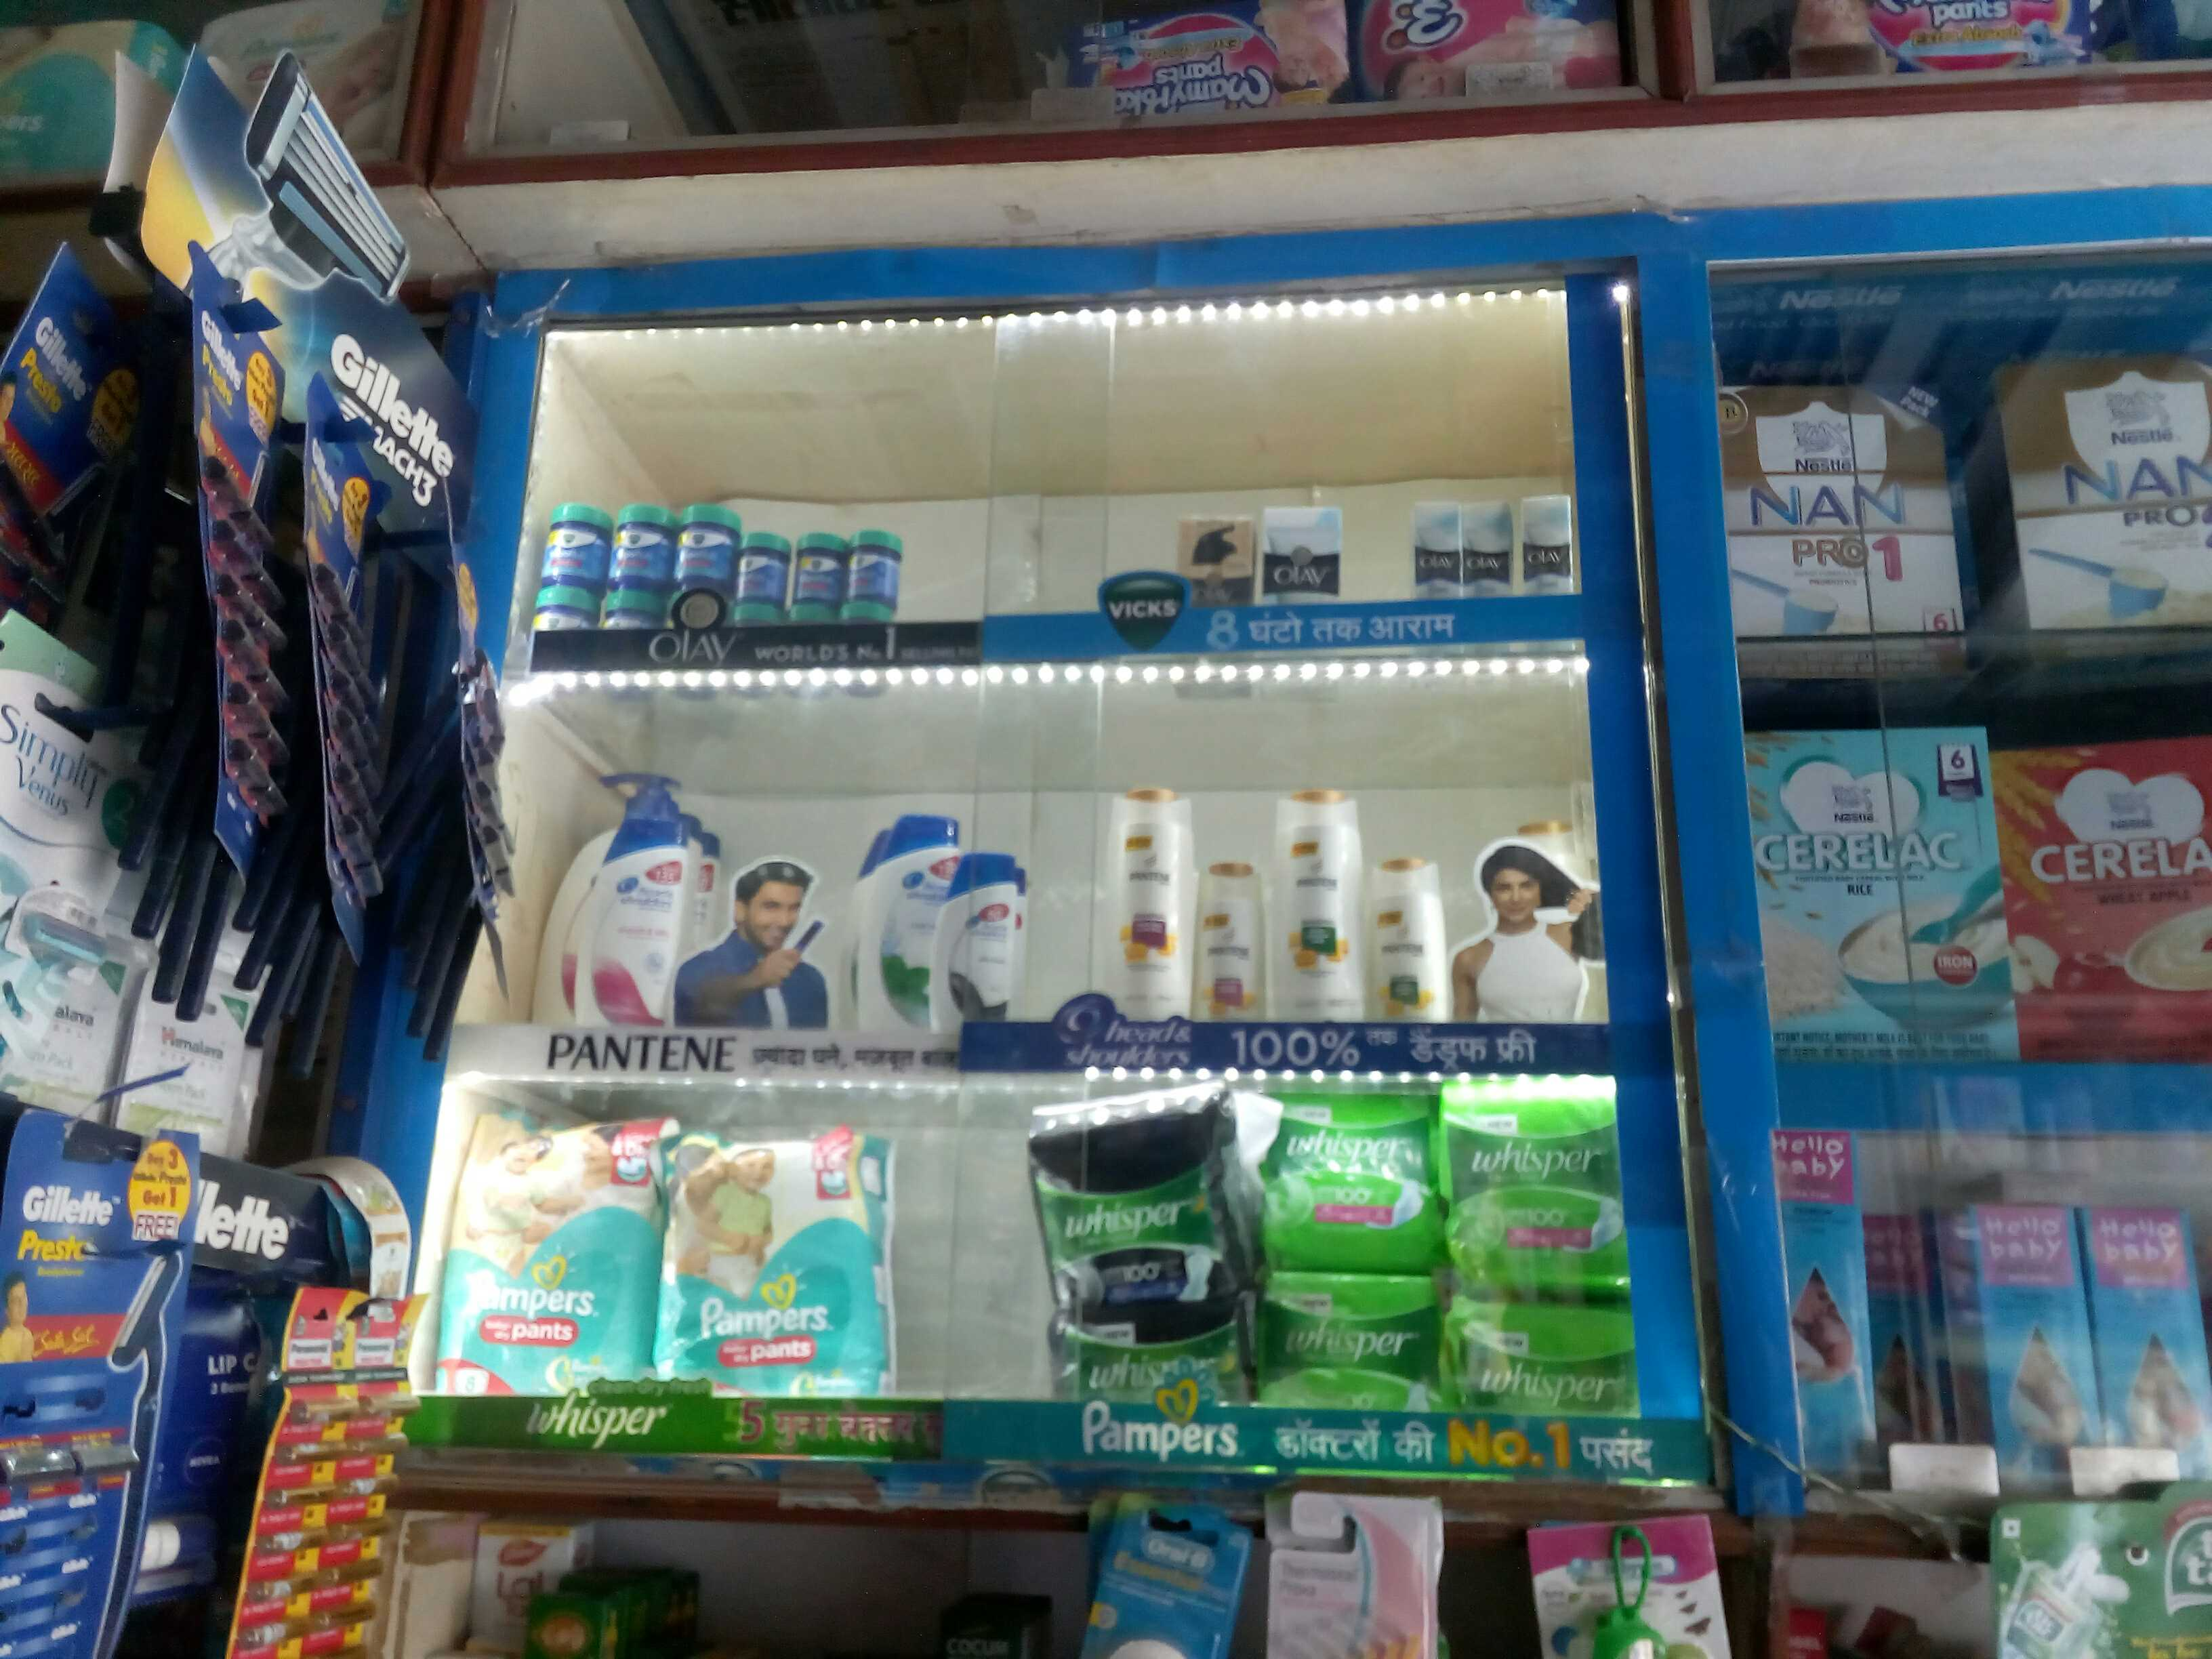vicks: (540, 495, 894, 629)
